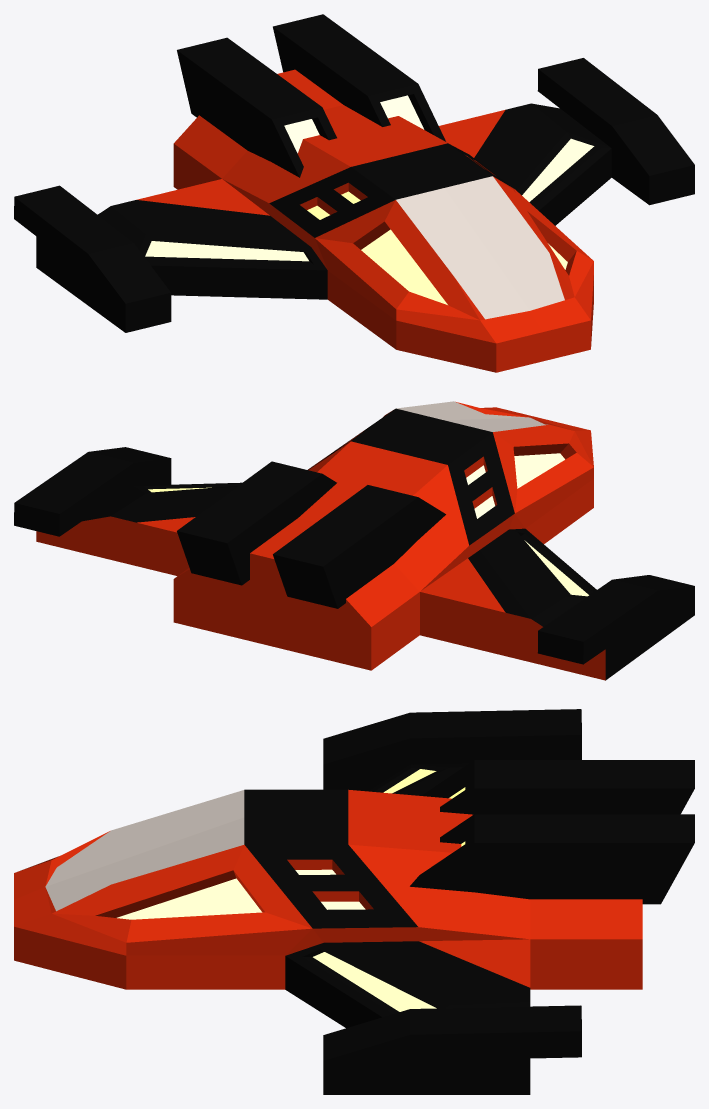
The model's file is enemyship3.fbx.
3 renders of one model, top to bottom at view 1: azimuth 30°, elevation 25°; view 2: azimuth 150°, elevation 25°; view 3: azimuth 270°, elevation 25°, orthographic. The views are drawn at different scales.
Parts seen in each view (by area): view 1: Cube.001; view 2: Cube.001; view 3: Cube.001.
Part boxes in pixels (x1=…): Cube.001: x1=14, y1=14, x2=694, y2=372; Cube.001: x1=14, y1=401, x2=694, y2=680; Cube.001: x1=14, y1=709, x2=694, y2=1094.
Size of the model in its own units: 1358 by 260 by 1213.
